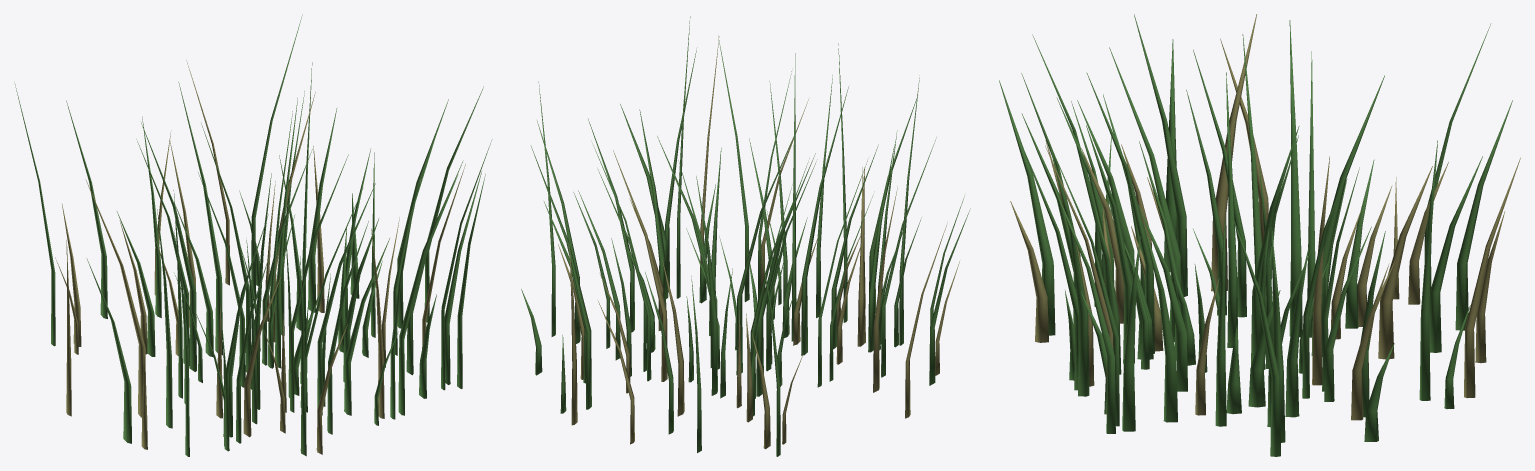
Rendered from MSH_GrassTuft_C.fbx.
The picture shows the model from 3 angles, left to right: view 1: azimuth 30°, elevation 25°; view 2: azimuth 150°, elevation 25°; view 3: azimuth 270°, elevation 25°; orthographic projection. The views are drawn at different scales.
Parts seen in each view (by area): view 1: MSH_GrassTuft_C_Blades3D; view 2: MSH_GrassTuft_C_Blades3D; view 3: MSH_GrassTuft_C_Blades3D.
Part boxes in pixels (bbox=[...]): MSH_GrassTuft_C_Blades3D: bbox=[14, 14, 492, 456]; MSH_GrassTuft_C_Blades3D: bbox=[521, 16, 970, 456]; MSH_GrassTuft_C_Blades3D: bbox=[999, 14, 1520, 456].
Bounding box in the file's own units: 1.09 × 0.6663 × 1.06.
